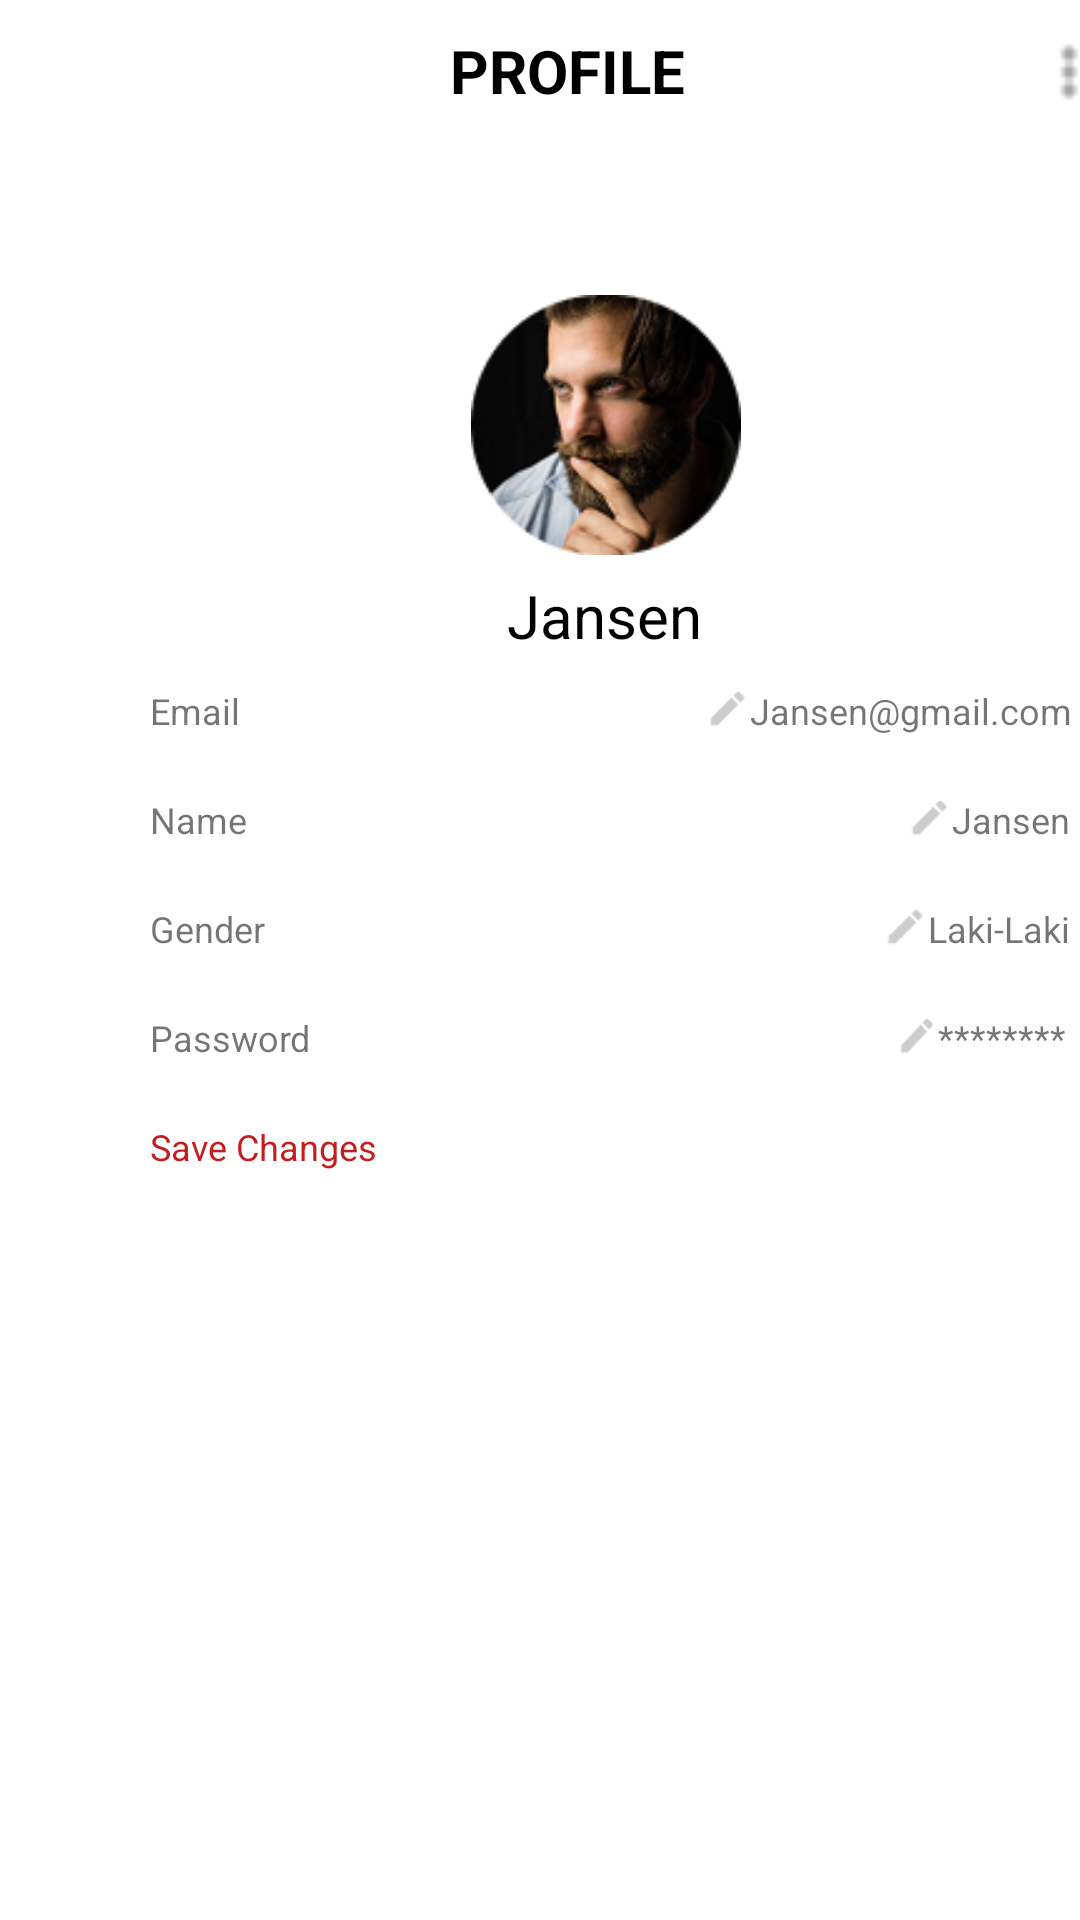

Icons on this 1080 × 1920 Android screen, each with the point to tap as (x,y):
pencil: (727,708), (929,817), (905,926), (917,1035)
